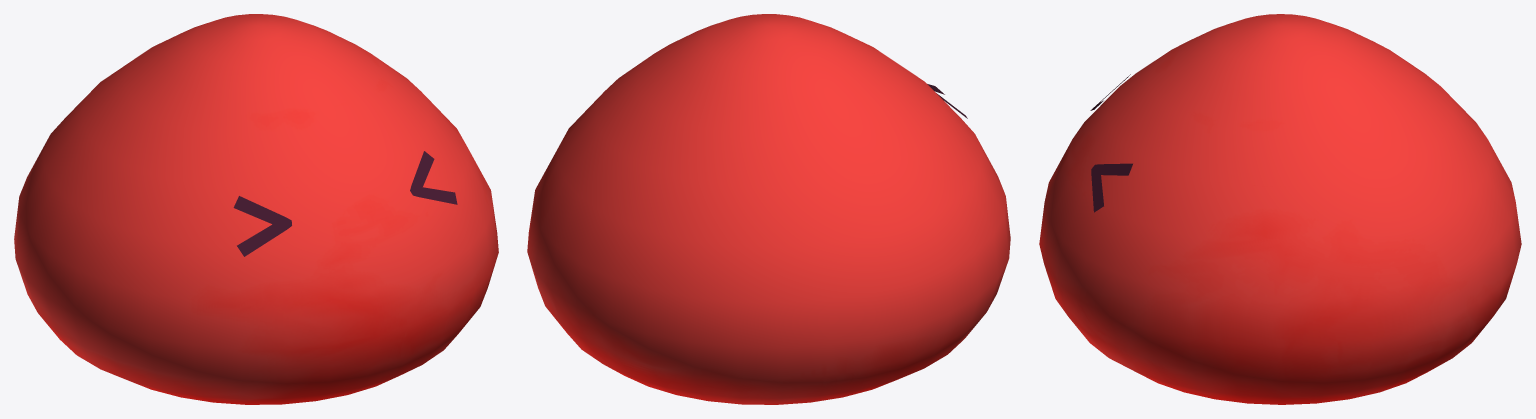
File: slime_red_hurt.gltf
3 renders of one model, left to right at view 1: azimuth 30°, elevation 25°; view 2: azimuth 150°, elevation 25°; view 3: azimuth 270°, elevation 25°, orthographic.
Parts seen in each view (by area): view 1: Slime_Slime_0; view 2: Slime_Slime_0; view 3: Slime_Slime_0.
Part boxes in pixels (x1,y1,x2,y2): Slime_Slime_0: [14, 14, 498, 404]; Slime_Slime_0: [527, 14, 1010, 404]; Slime_Slime_0: [1039, 14, 1521, 404].
Size of the model in its own units: 1.03 by 0.7421 by 1.03.
Materials: 2 (1 with a texture image).
